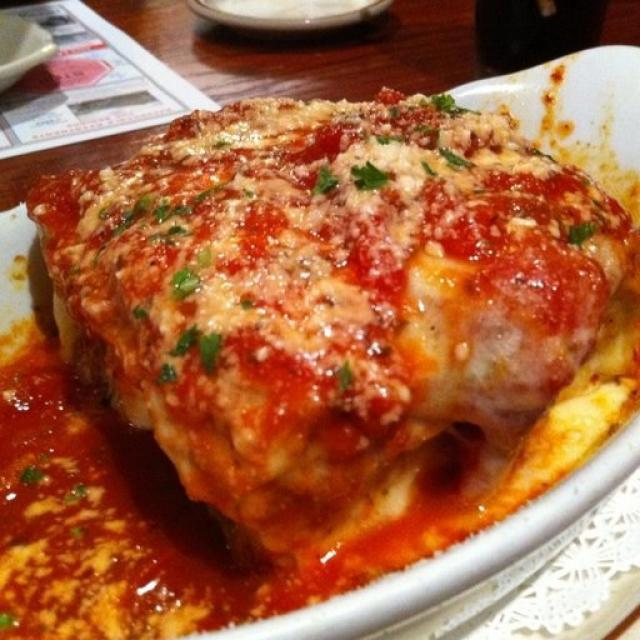Lasagna: (36, 85, 640, 506)
